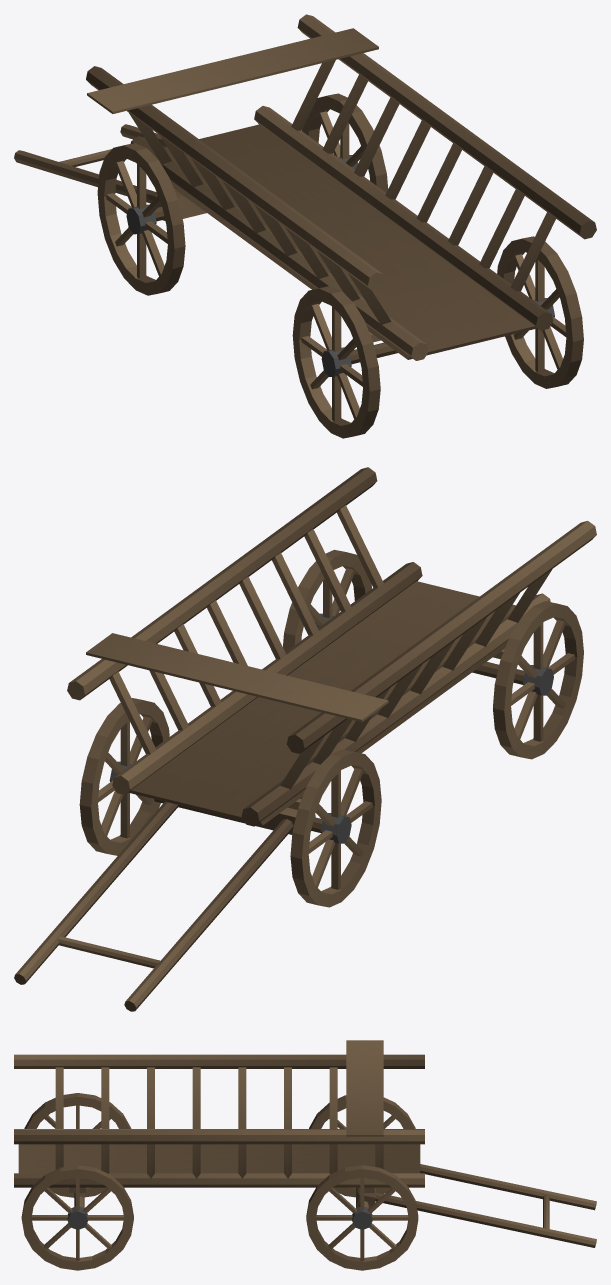
The model's file is ZLP_Build_D_19.FBX.
3 renders of one model, top to bottom at view 1: azimuth 30°, elevation 25°; view 2: azimuth 150°, elevation 25°; view 3: azimuth 270°, elevation 25°, orthographic. The views are drawn at different scales.
Parts seen in each view (by area): view 1: ZLP_Build_D_19; view 2: ZLP_Build_D_19; view 3: ZLP_Build_D_19.
Part boxes in pixels (bbox=[...]): ZLP_Build_D_19: bbox=[14, 14, 596, 438]; ZLP_Build_D_19: bbox=[14, 467, 596, 1011]; ZLP_Build_D_19: bbox=[14, 1040, 596, 1270].
Bounding box in the file's own units: 109 × 76.37 × 284.
